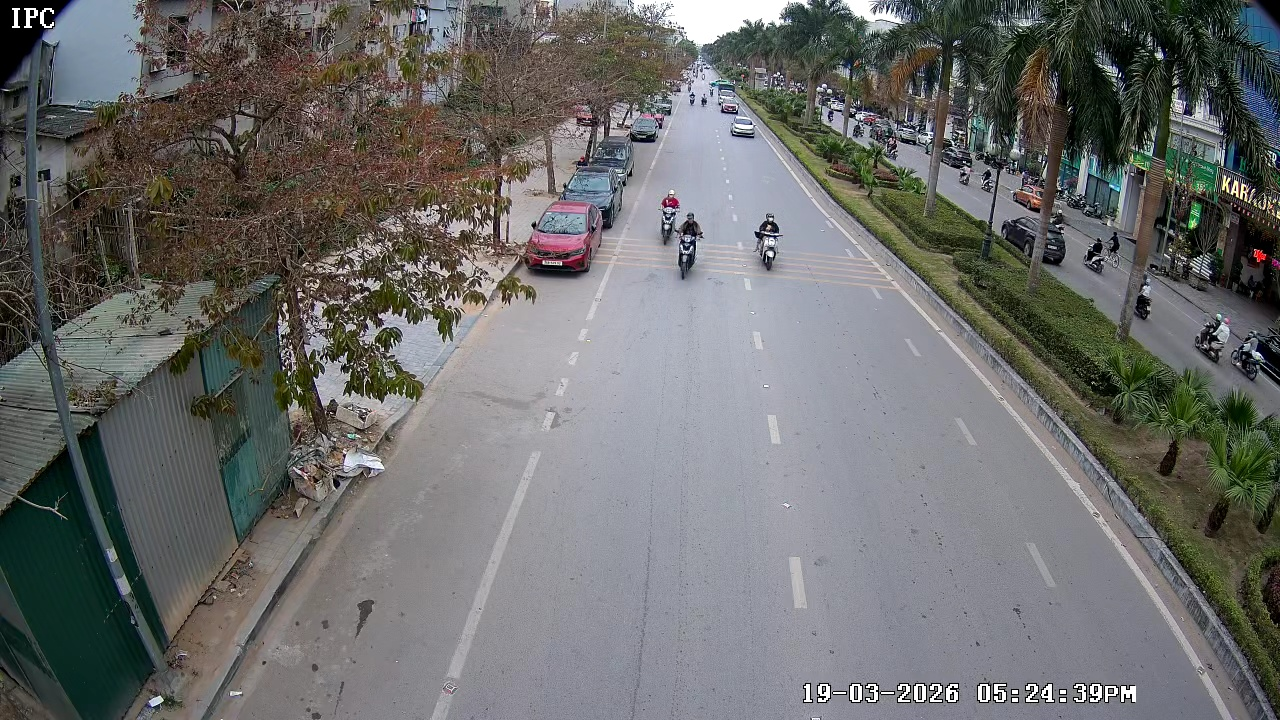car: (524, 199, 601, 277), (733, 117, 758, 142), (722, 97, 740, 115)
motorbike: (673, 209, 705, 279), (752, 210, 783, 273), (657, 187, 679, 246)
